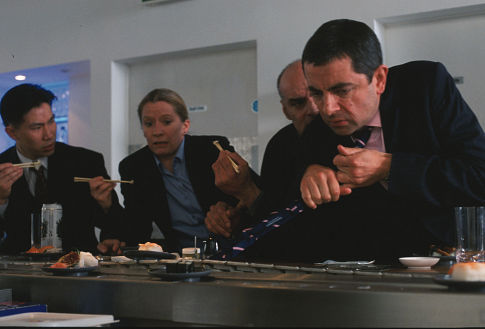25: (12, 94, 61, 163)
37: (133, 93, 187, 162)
42: (291, 45, 384, 147)
Coat: (306, 48, 483, 265), (105, 139, 268, 257), (2, 142, 131, 270)
Female: (133, 93, 187, 162)
Male: (291, 45, 384, 147), (12, 94, 61, 163)
Tie: (217, 118, 386, 267), (26, 157, 56, 199)
